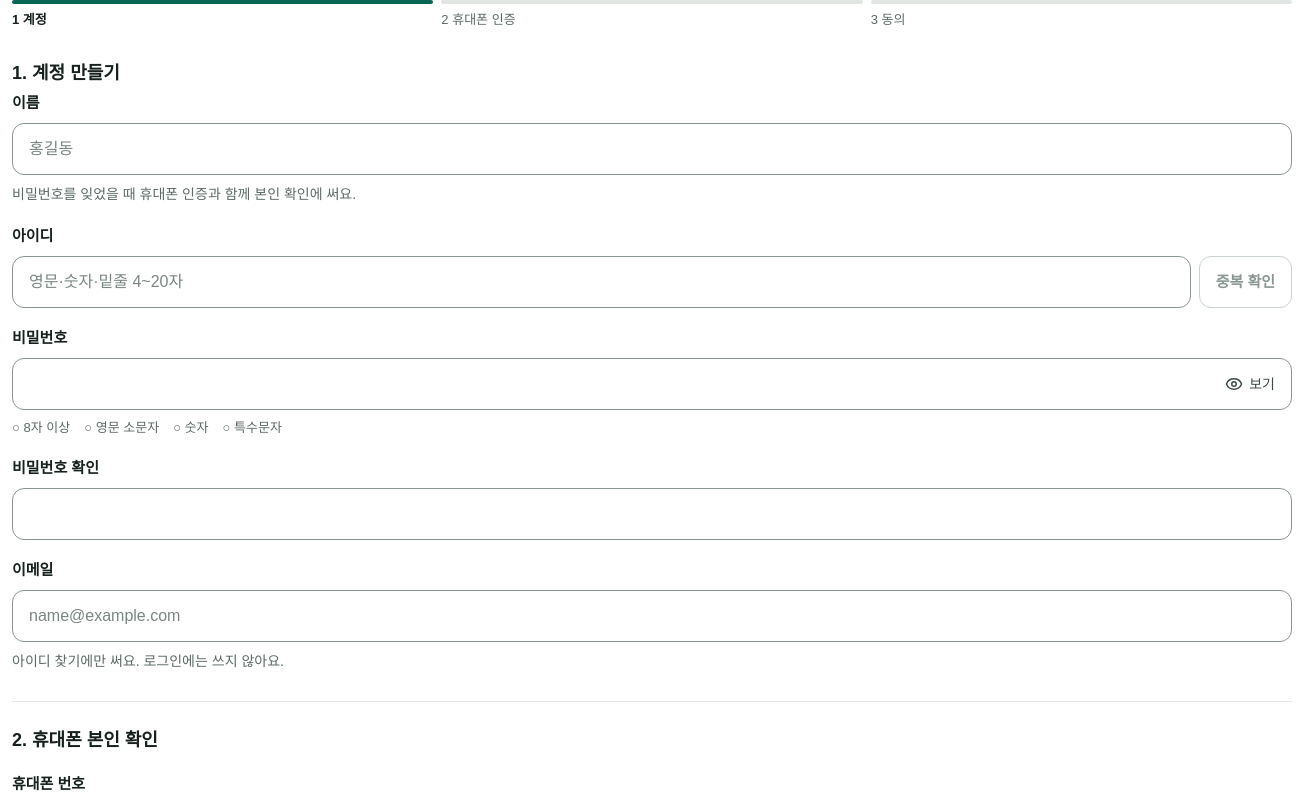
it: PasswordSignupForm › 아이디 중복 확인 뒤 값을 바꾸면 확인 상태를 무효화한다
The image size is (1304, 800).
Type "new_user" into the field labelled "아이디" at [601, 282], box [29,270,1174,294]
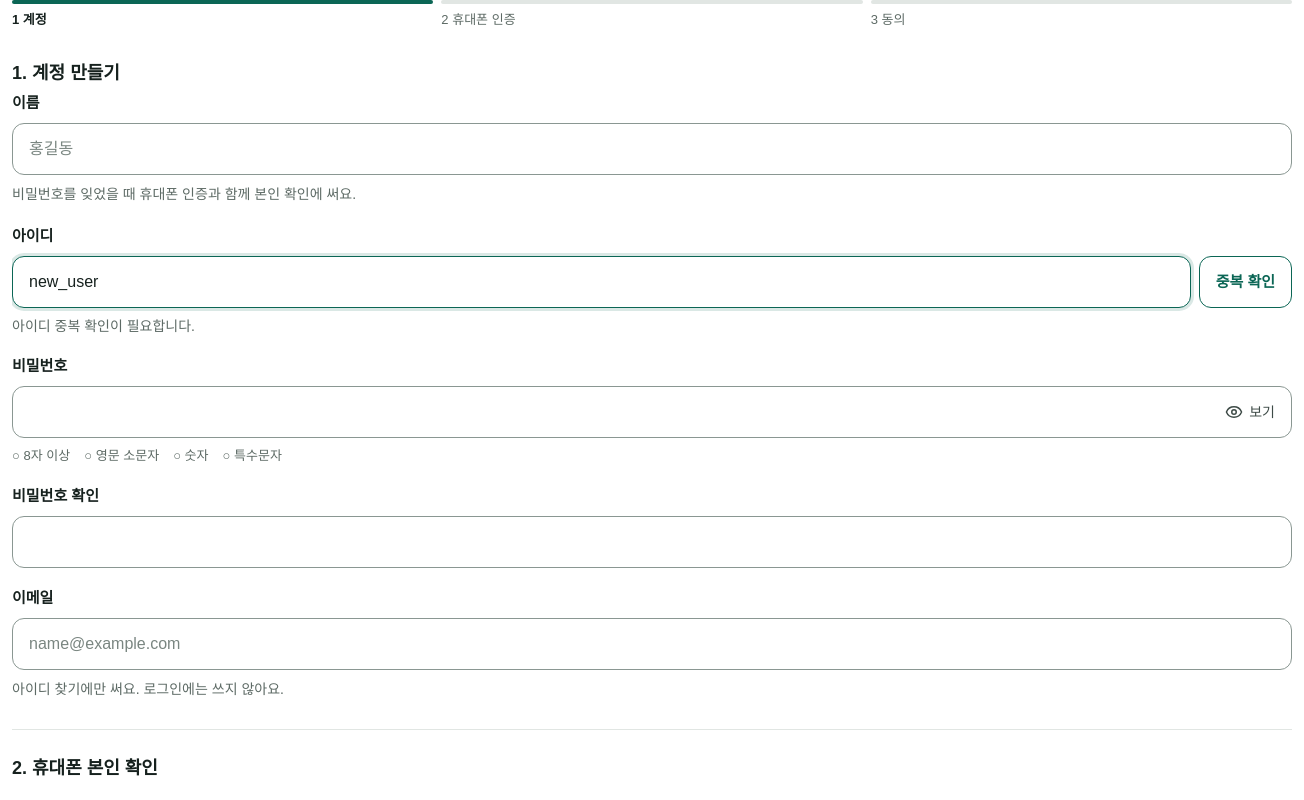
Click the button with aria-label "아이디 중복 확인" at [1245, 282], box [1199,256,1292,308]
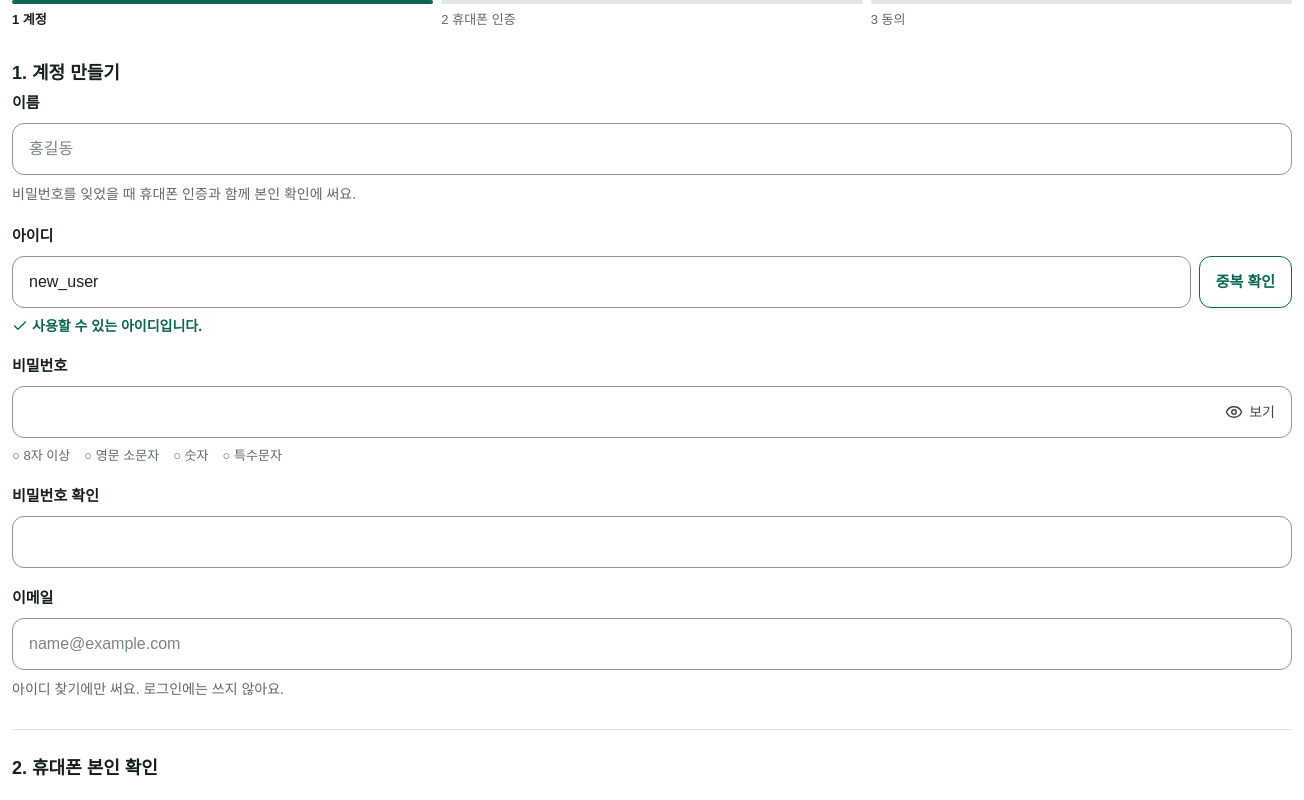
expect the text "사용할 수 있는 아이디입니다." is shown: met, box [12,318,202,334]
Type "2" into the field labelled "아이디" at [601, 282], box [29,270,1174,294]
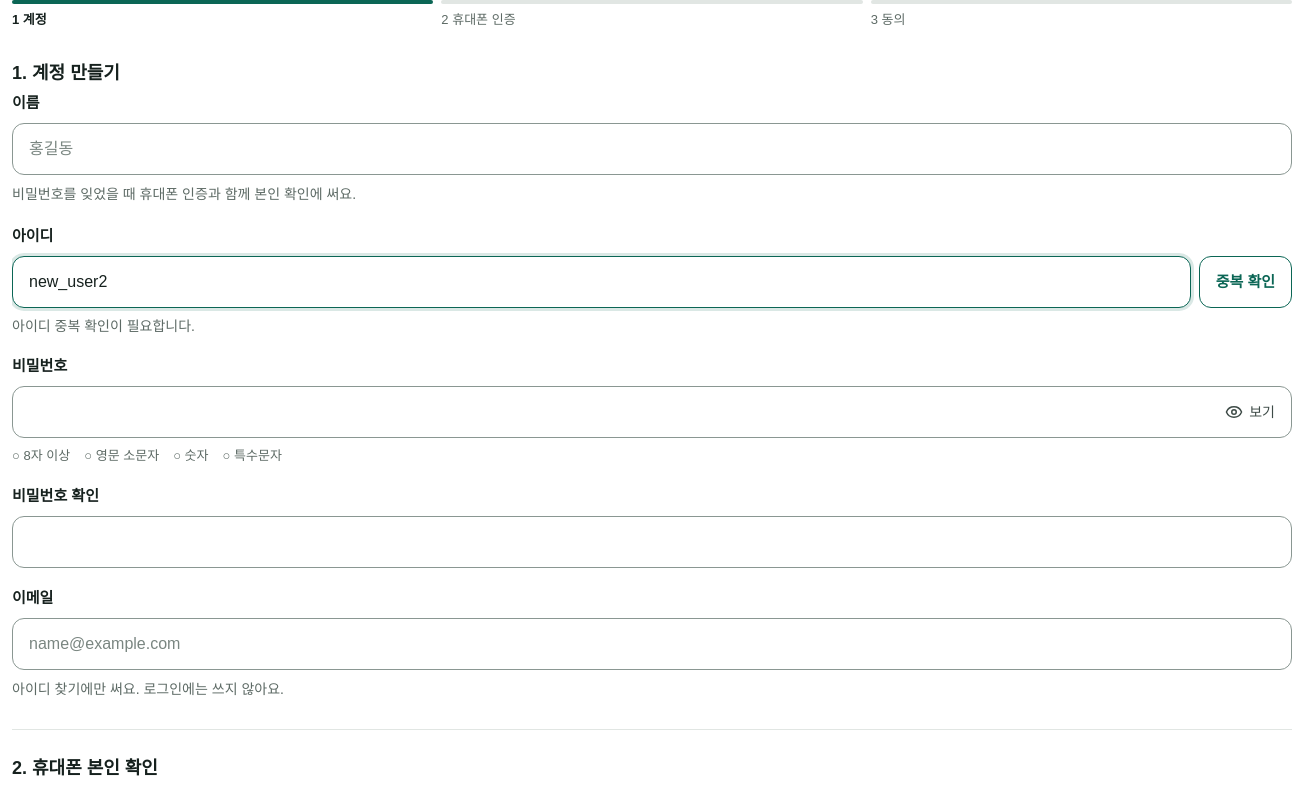
expect the text "사용할 수 있는 아이디입니다." is gone: met
expect the text "아이디 중복 확인이 필요합니다." is shown: met, box [12,318,195,334]
